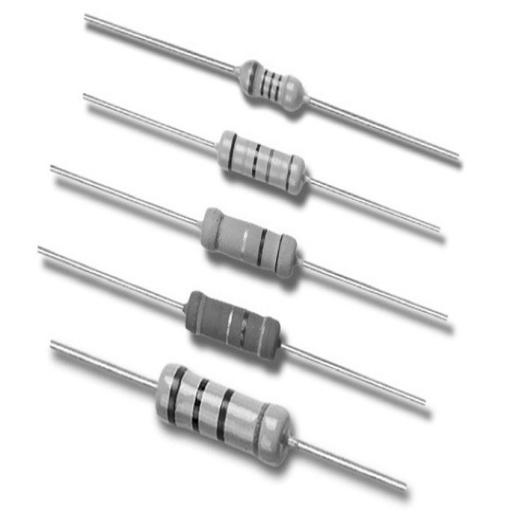RESISTOR: (129, 360, 317, 466), (175, 182, 323, 292), (180, 60, 354, 142), (168, 284, 304, 370), (197, 128, 335, 210)
